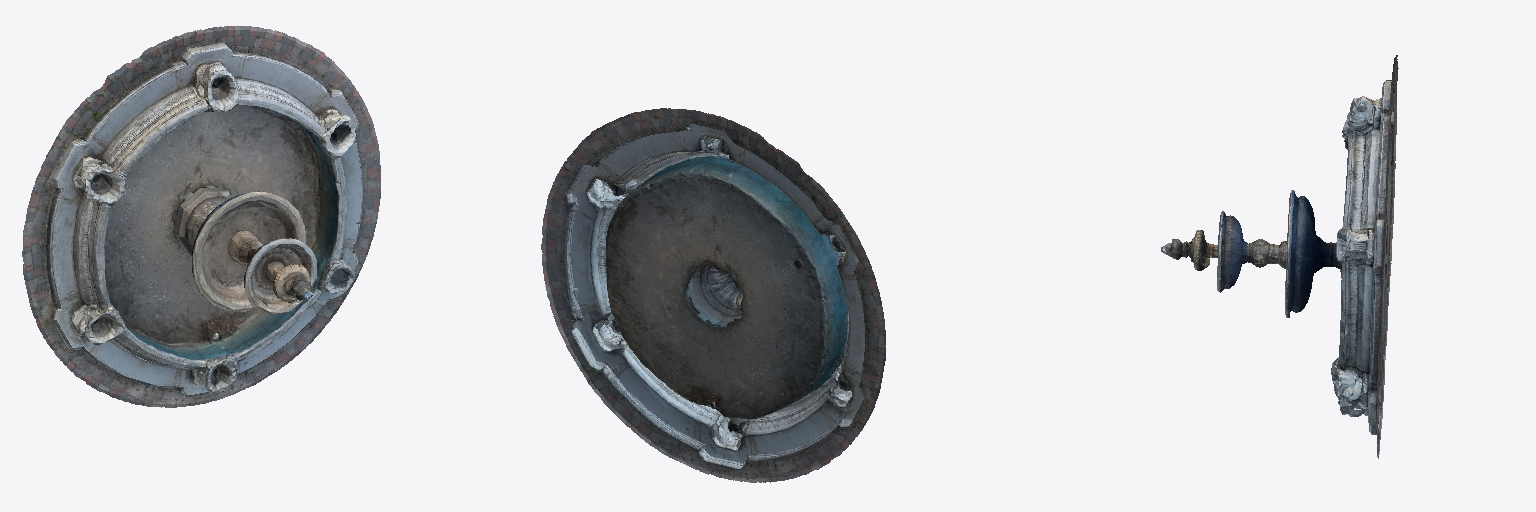
3 views of the same model, side by side, from view 1: azimuth 30°, elevation 25°; view 2: azimuth 150°, elevation 25°; view 3: azimuth 270°, elevation 25° (orthographic).
Size of the model in its own units: 33.13 by 33.12 by 19.33.
Materials: 1 (1 with a texture image).